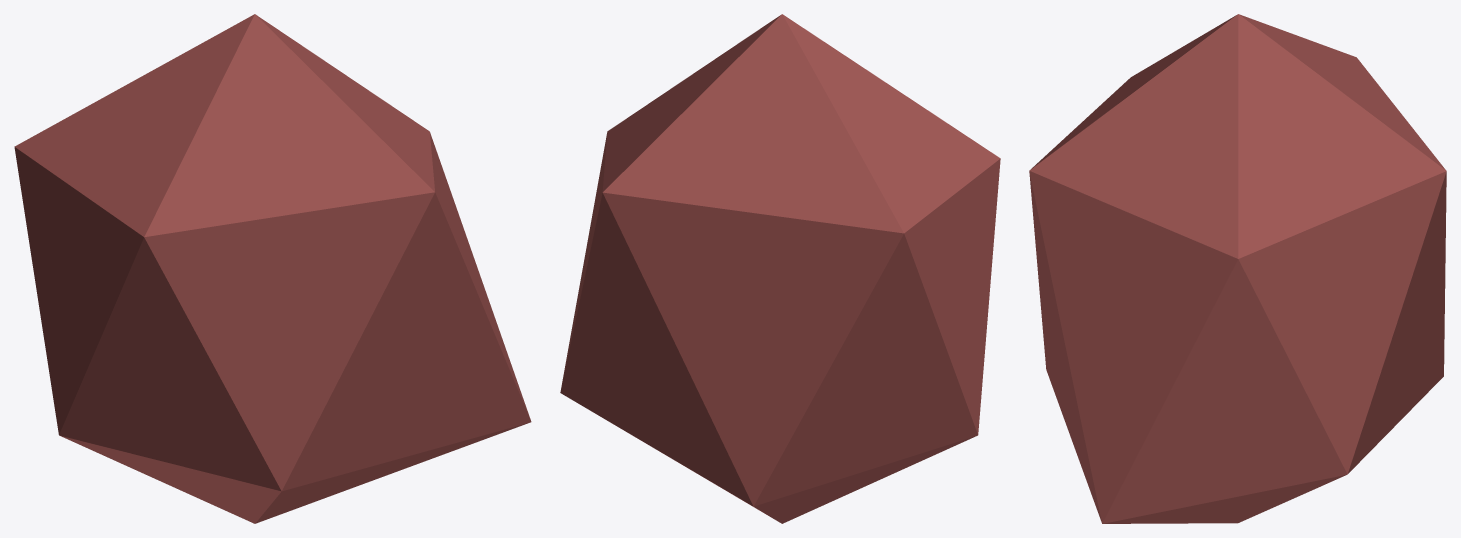
The model's file is rock_0.glb.
The picture shows the model from 3 angles, left to right: view 1: azimuth 30°, elevation 25°; view 2: azimuth 150°, elevation 25°; view 3: azimuth 270°, elevation 25°; orthographic projection.
Visible parts, largest first — view 1: rock_0; view 2: rock_0; view 3: rock_0.
Part boxes in pixels (<box>): rock_0: <box>14,14,531,523</box>; rock_0: <box>560,14,1000,523</box>; rock_0: <box>1029,14,1446,523</box>.
Size of the model in its own units: 1.63 by 1.96 by 1.46.
